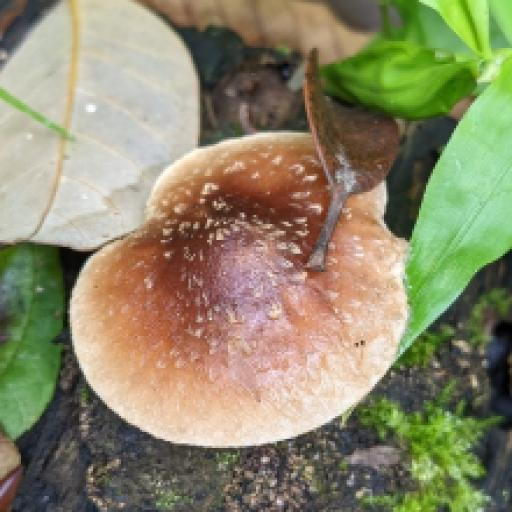Shiitake Mushroom: (52, 91, 449, 504)
